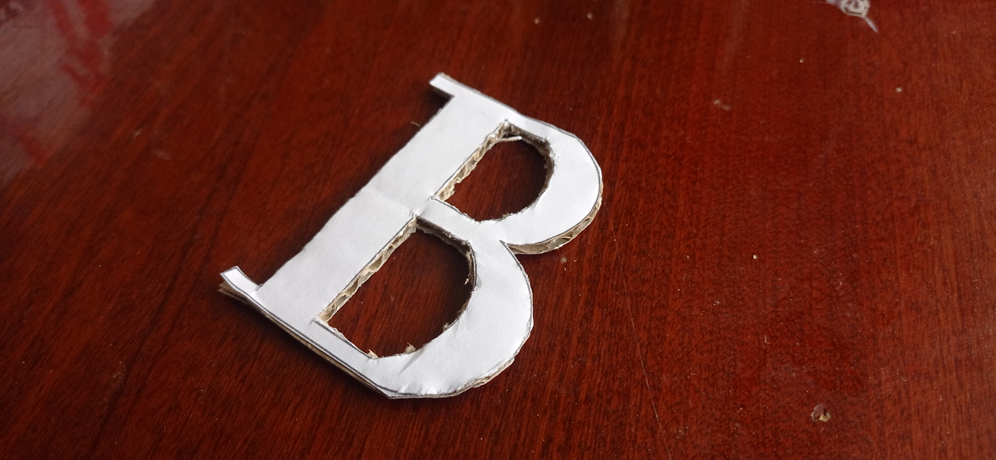v: (218, 73, 604, 402)
